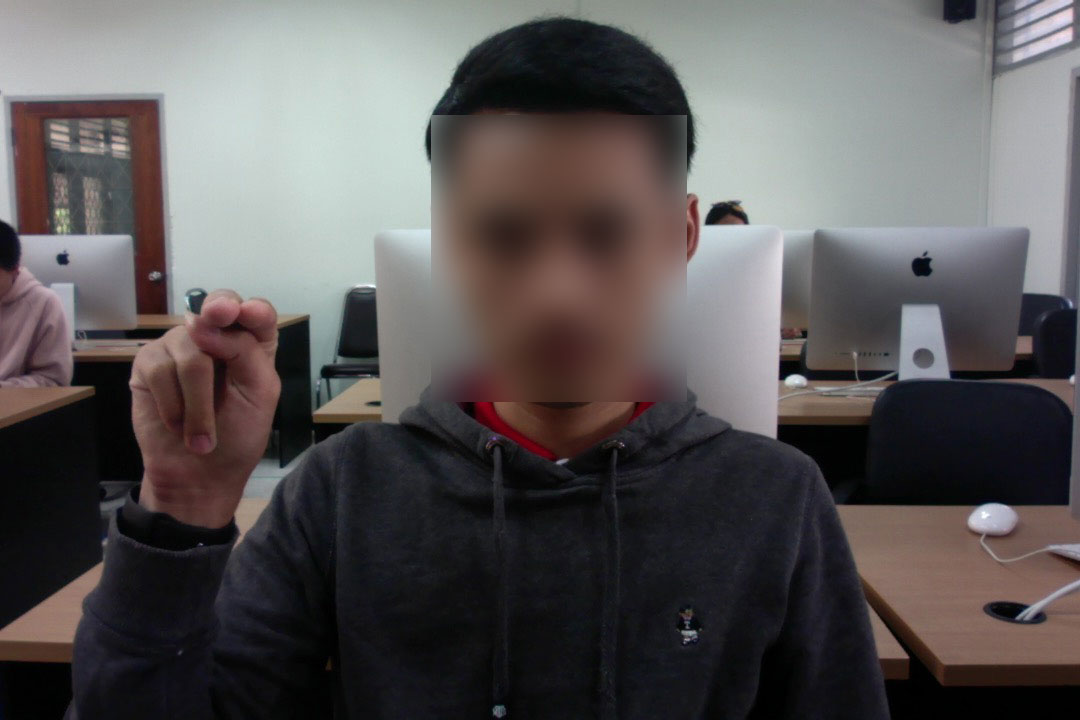nor: (121, 278, 283, 522)
